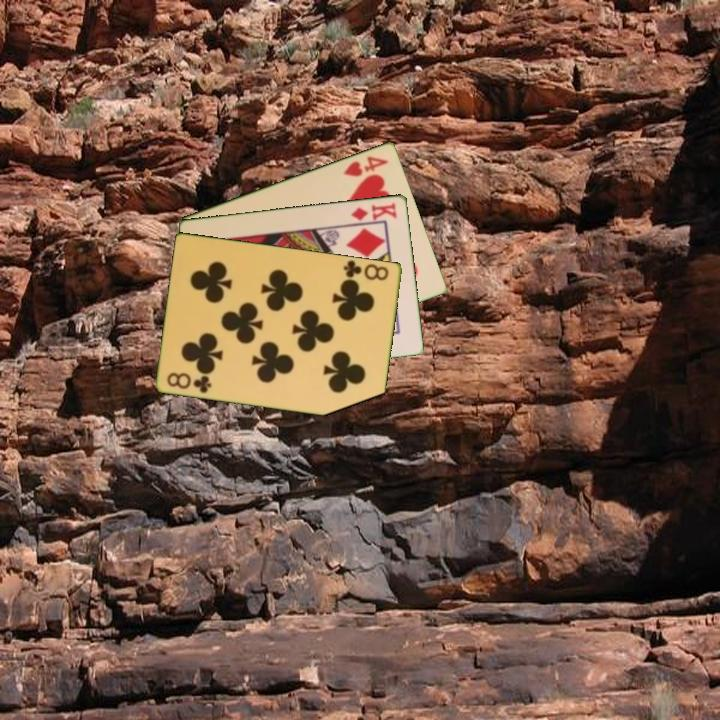4h: (340, 152, 391, 179)
8c: (164, 369, 215, 396), (340, 257, 392, 283)
Kd: (348, 198, 400, 223)
